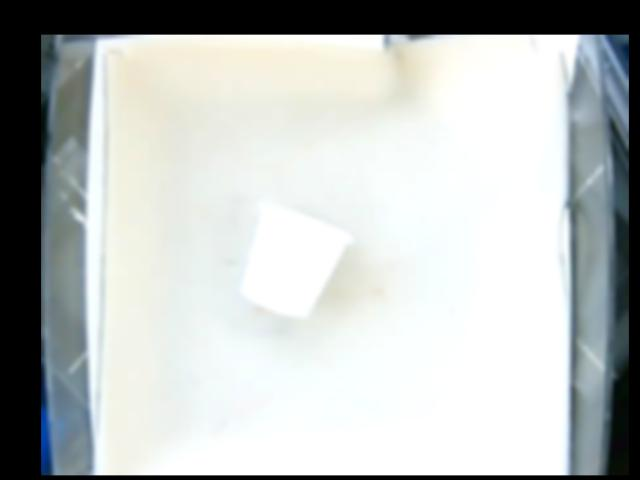Cup: (240, 202, 350, 317)
